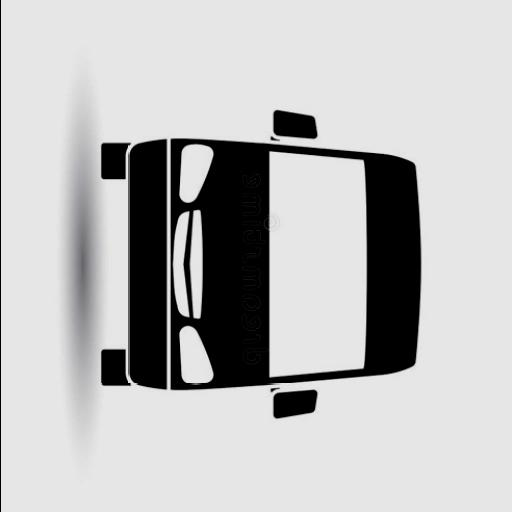van: (96, 108, 418, 420)
